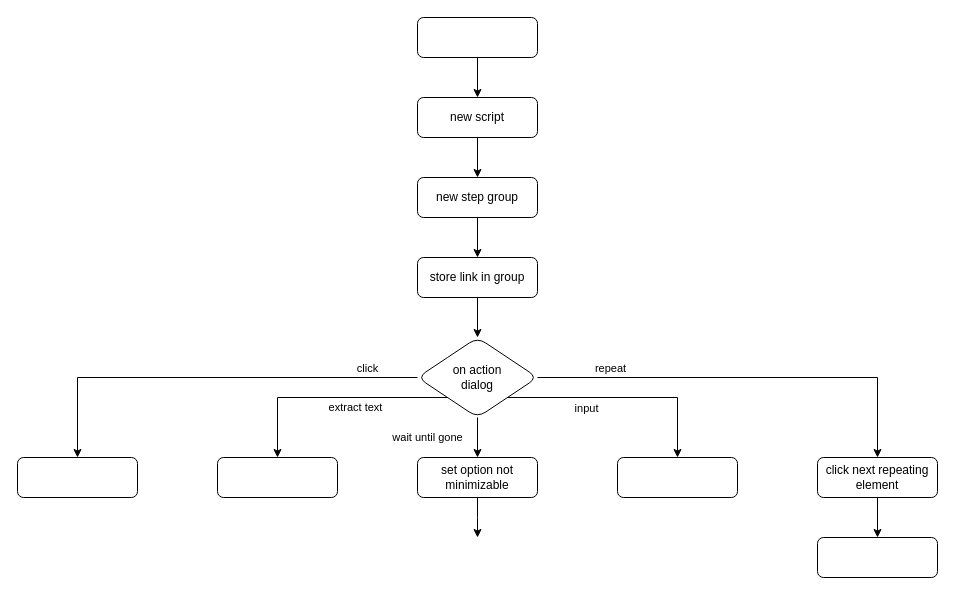
Image size: 955x595. Some labels were removed from this diagram. The shapes that lost their labels are listed below. From the top down, each one's box as (x1, y1, x2, y2) in pixels, then its label:
(416, 16, 538, 58): start record
(616, 456, 738, 498): grab input before next action
(816, 536, 938, 578): highlight repeating elements
